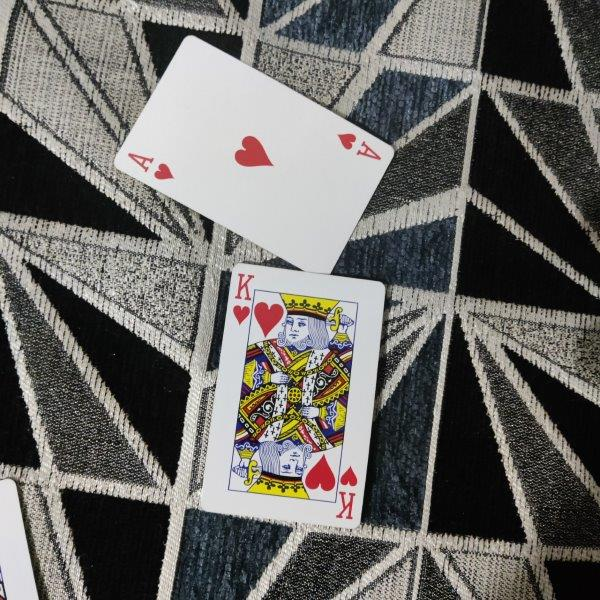Ace of Hearts: (113, 34, 396, 277)
King of Hearts: (196, 263, 387, 530)
